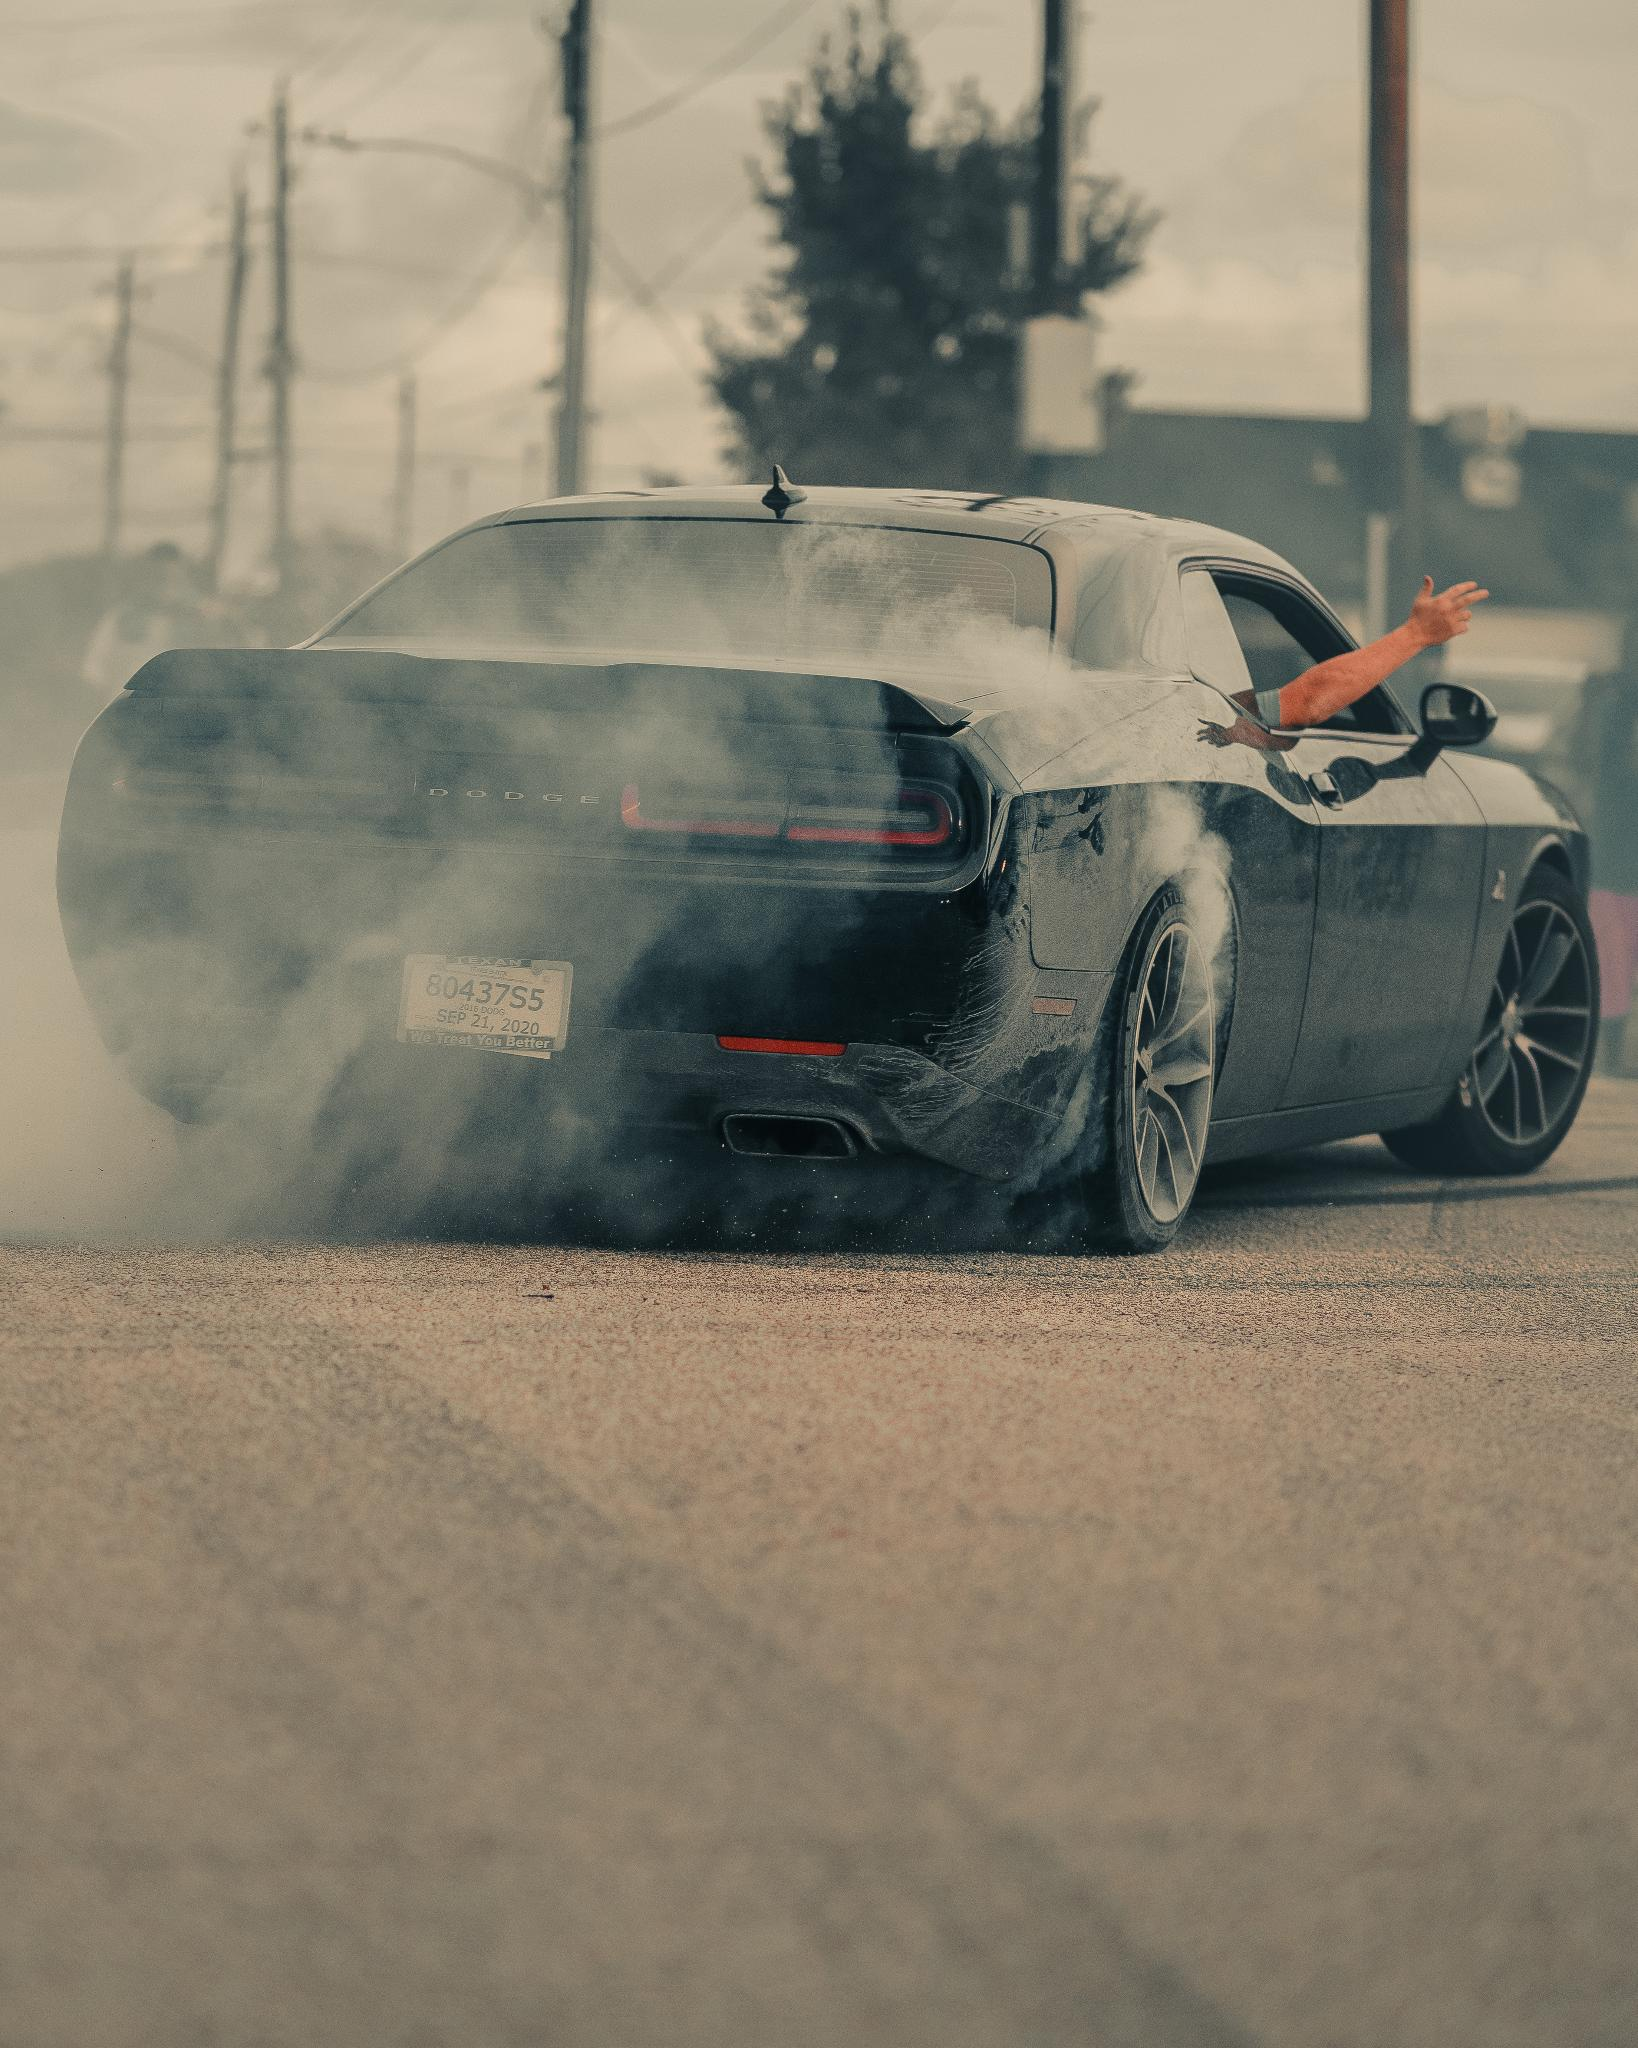dodge: (403, 766, 617, 829)
